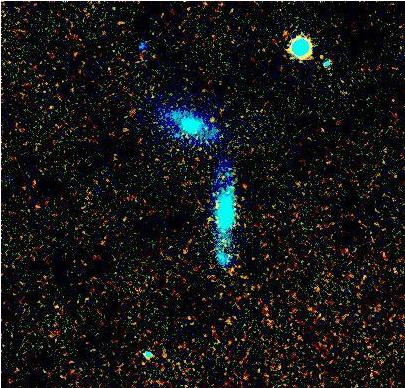star: (198, 104, 228, 134)
